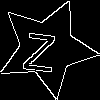Z: (22, 23, 59, 73)
